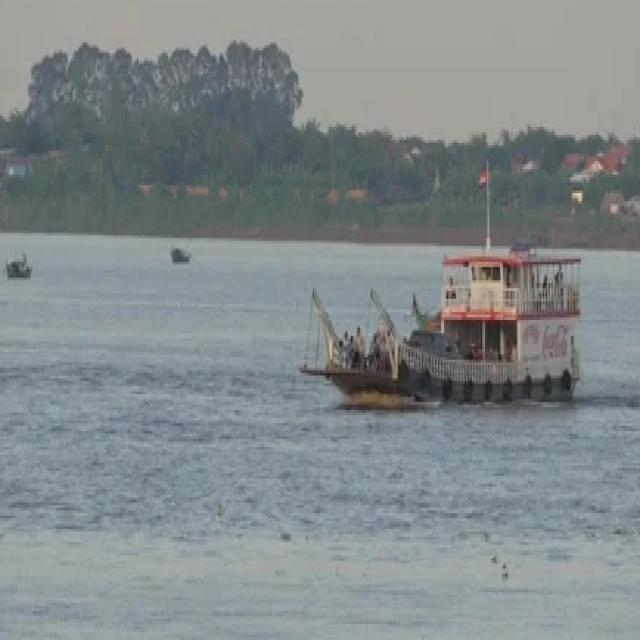houseboat: (306, 204, 600, 433)
